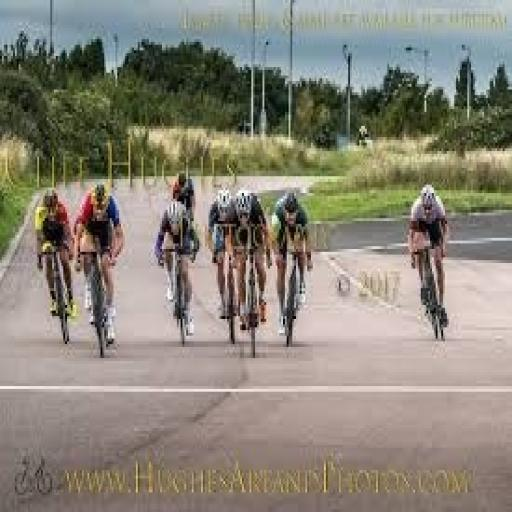cycling: (70, 179, 126, 353), (268, 188, 317, 344), (153, 196, 203, 344), (406, 182, 452, 341), (32, 185, 76, 341), (235, 189, 263, 349), (208, 190, 234, 347)
